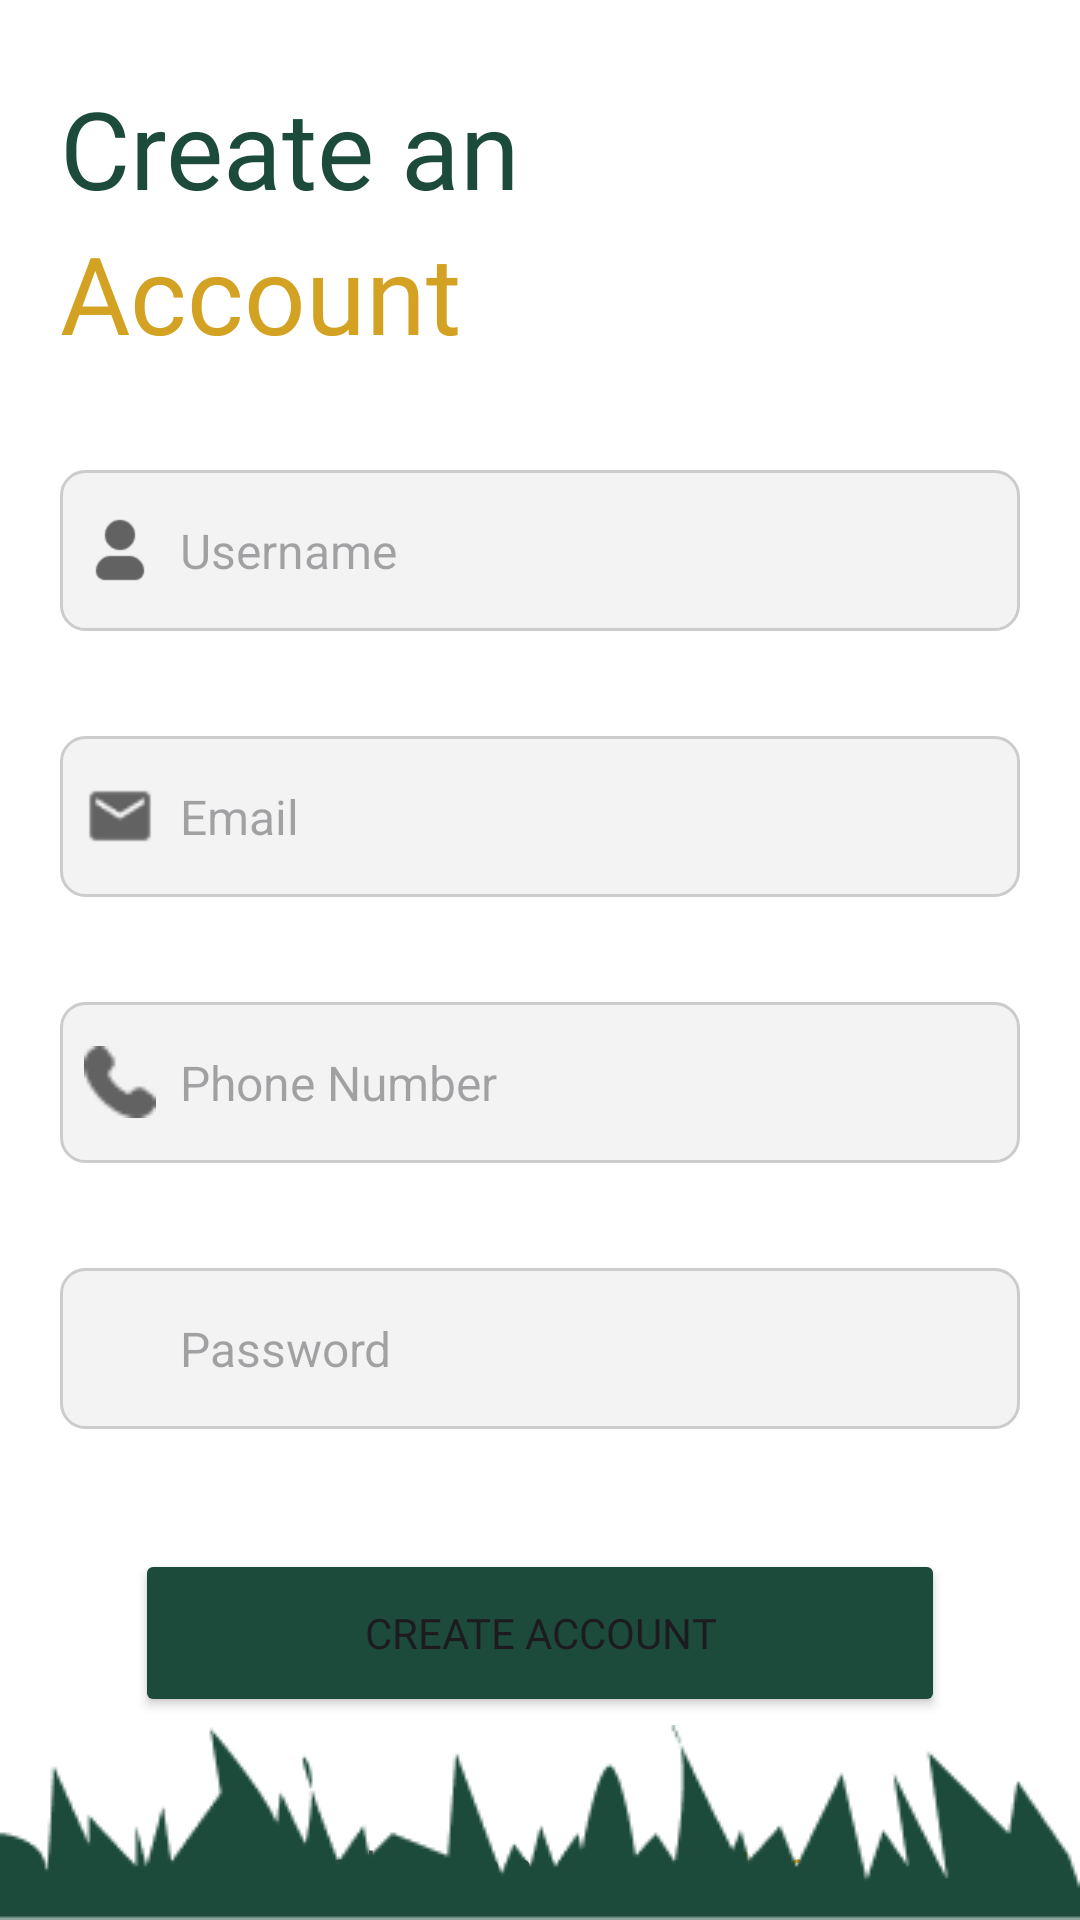

Where to tap for icons on this 1080×1920 app screen, as point (x, y):
user log regis: point (120, 550)
